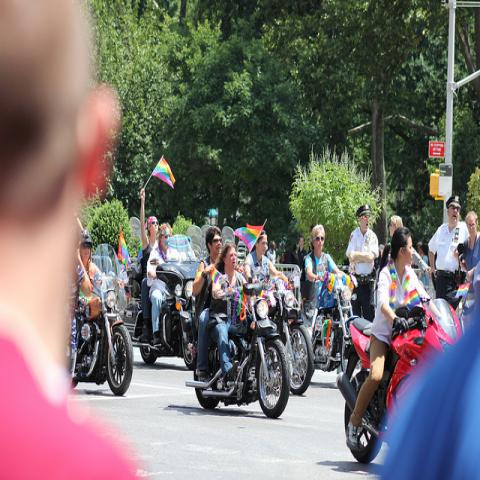motorcycle: (332, 292, 461, 466), (172, 281, 291, 420), (131, 256, 200, 366), (70, 283, 134, 395), (268, 282, 314, 394), (311, 274, 355, 370)
